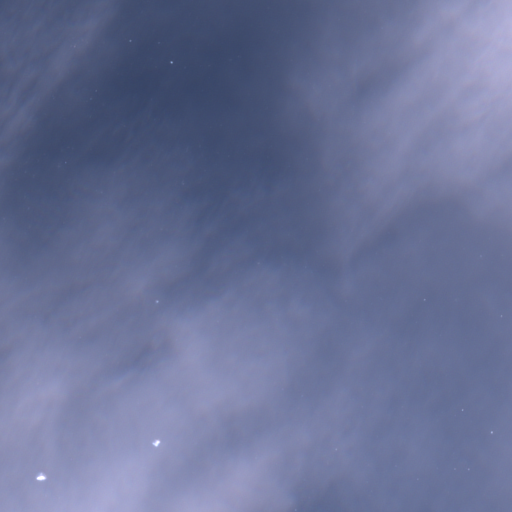Iceberg: (36, 472, 45, 479), (153, 440, 159, 446), (155, 300, 158, 302), (129, 39, 131, 41), (170, 61, 172, 63), (491, 431, 492, 433), (424, 299, 425, 300)
